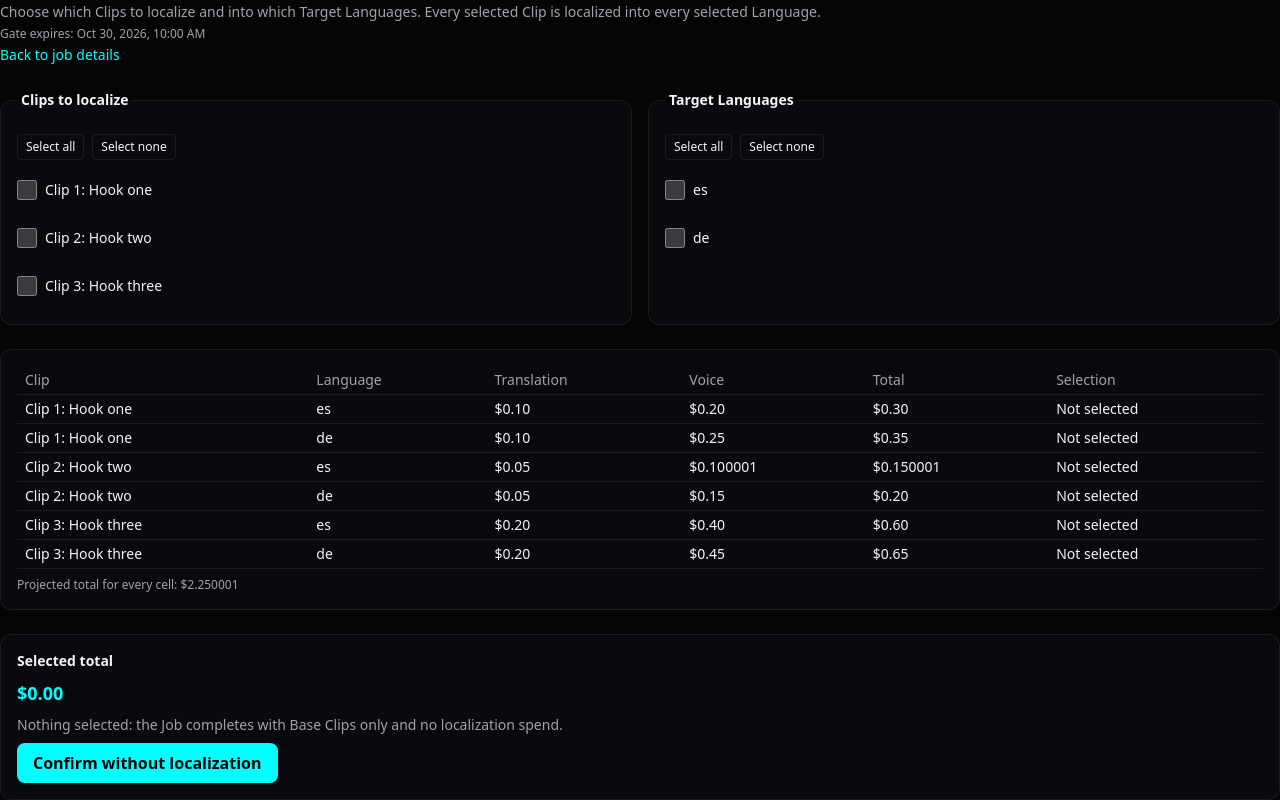
Test: SelectionGatePage › confirms the empty selection with a zero total so the Job completes without localization
The image size is (1280, 800).
(page scrolled)
Expected: the table named "Cost matrix" is shown, [17,366,1263,569]
Click the button "Confirm without localization" at (147, 763), box [17,743,278,783]
(page scrolled)
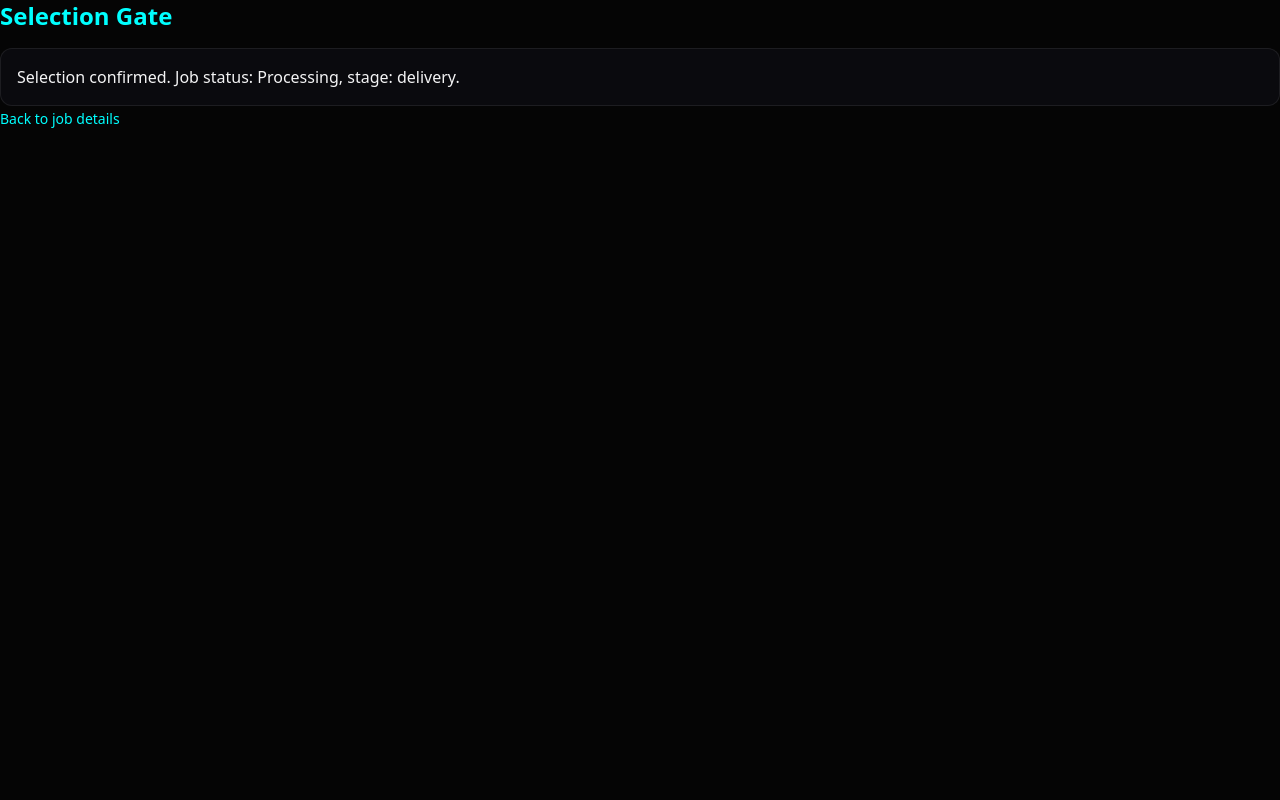
Result: the text "Selection confirmed. Job status: Processing, stage: delivery." is shown at [0,48,1279,106]
